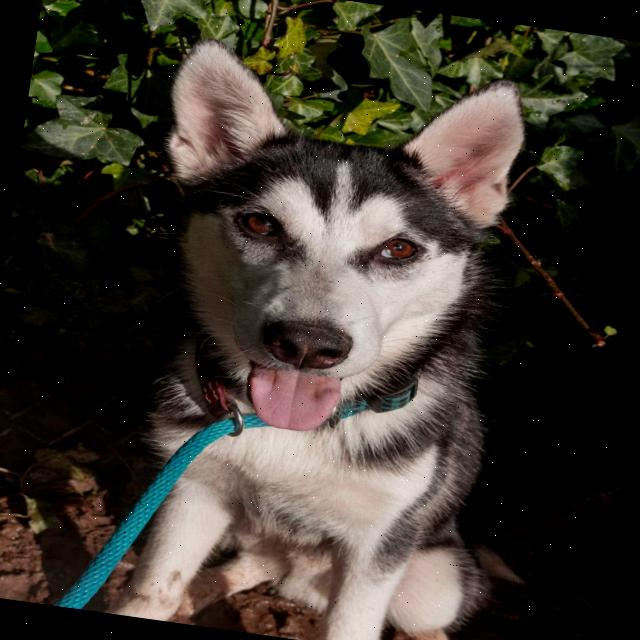siberian_husky_dog: (89, 14, 558, 483)
